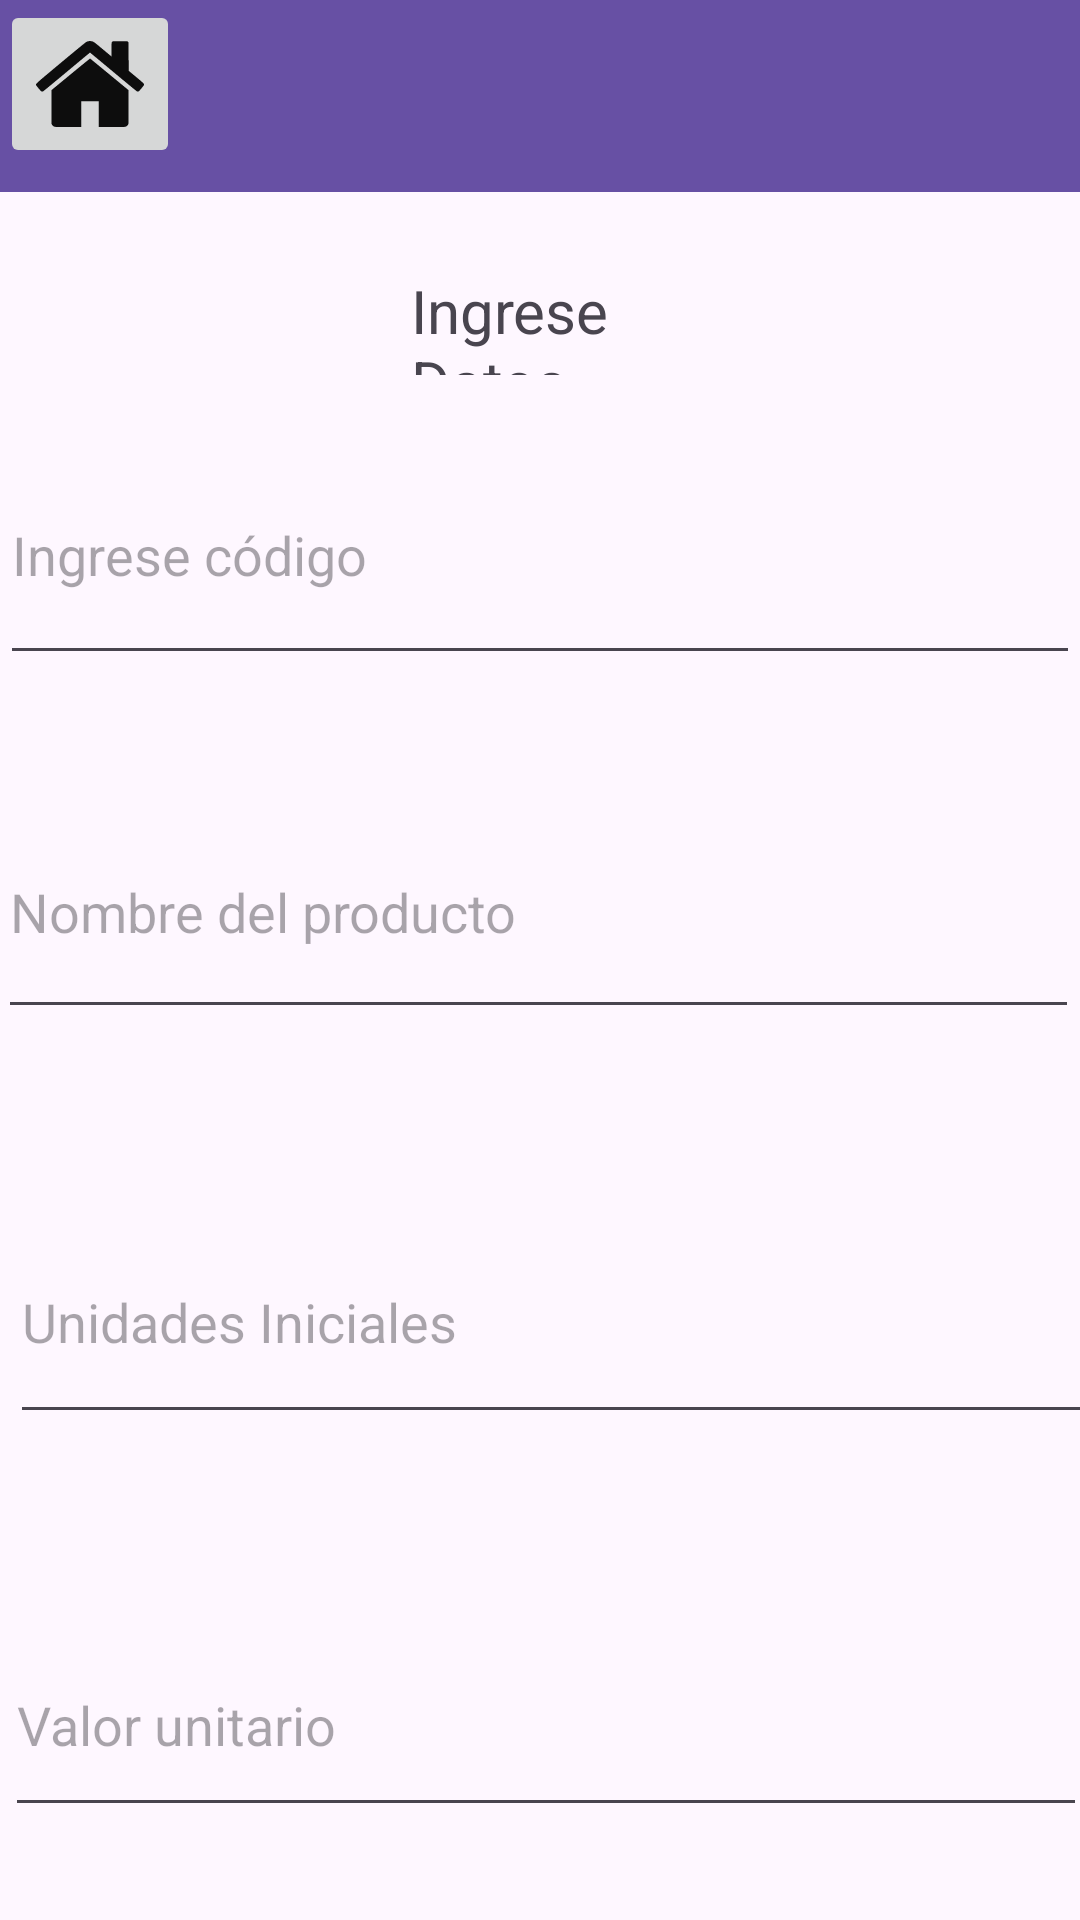

Screen size 1080x1920. Icon name, then its center in pixels as (x,y):
Home: (90,84)
